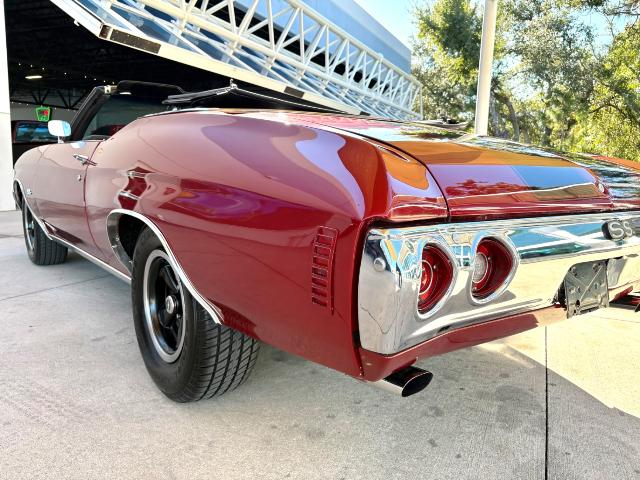chevelle-1972: (12, 81, 640, 402)
